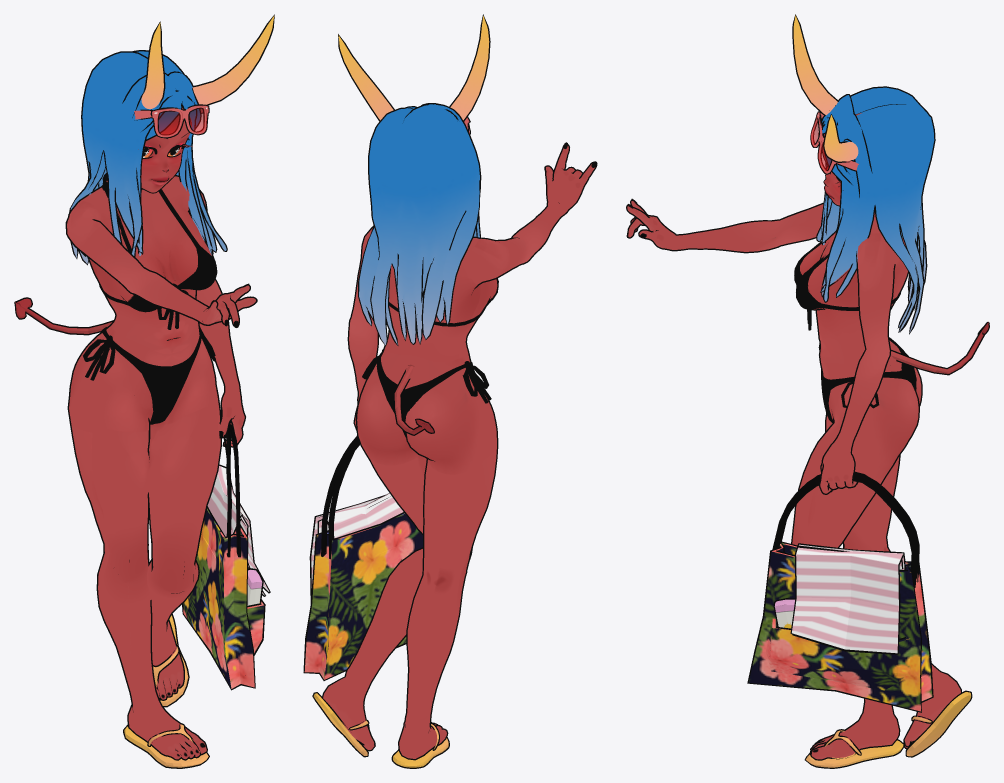
The model's file is zombie.glb.
3 renders of one model, left to right at view 1: azimuth 30°, elevation 25°; view 2: azimuth 150°, elevation 25°; view 3: azimuth 270°, elevation 25°, orthographic. The views are drawn at different scales.
Parts seen in each view (by area): view 1: DEmon_girl_0; view 2: DEmon_girl_0; view 3: DEmon_girl_0.
Boxes of the visible parts, x1,y1,x2,y2 form: DEmon_girl_0: [14, 14, 274, 768]; DEmon_girl_0: [303, 14, 597, 768]; DEmon_girl_0: [626, 14, 989, 768].
Size of the model in its own units: 0.4622 by 1.77 by 0.8026.
3 materials, 2 textured.
